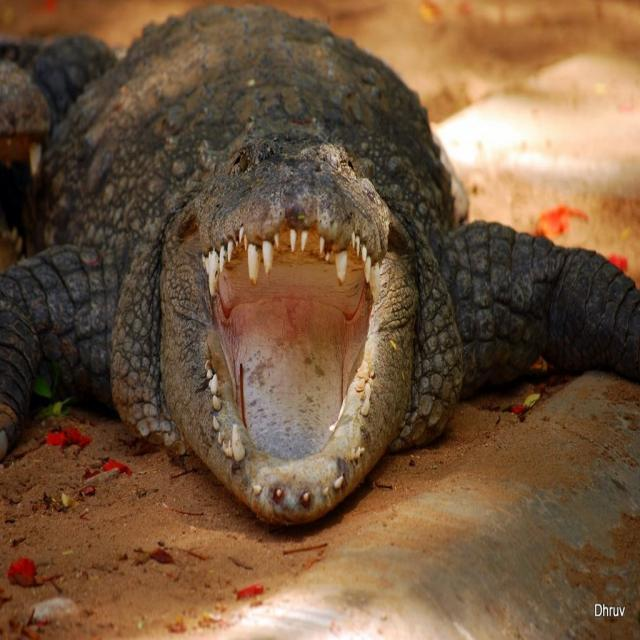crocodile: (7, 3, 639, 526)
